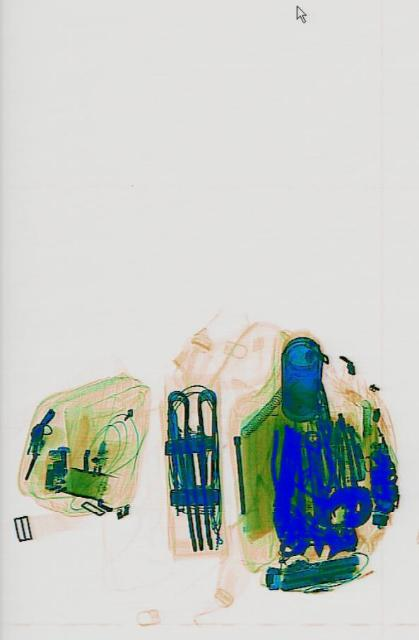Wrench: (299, 427, 338, 563)
